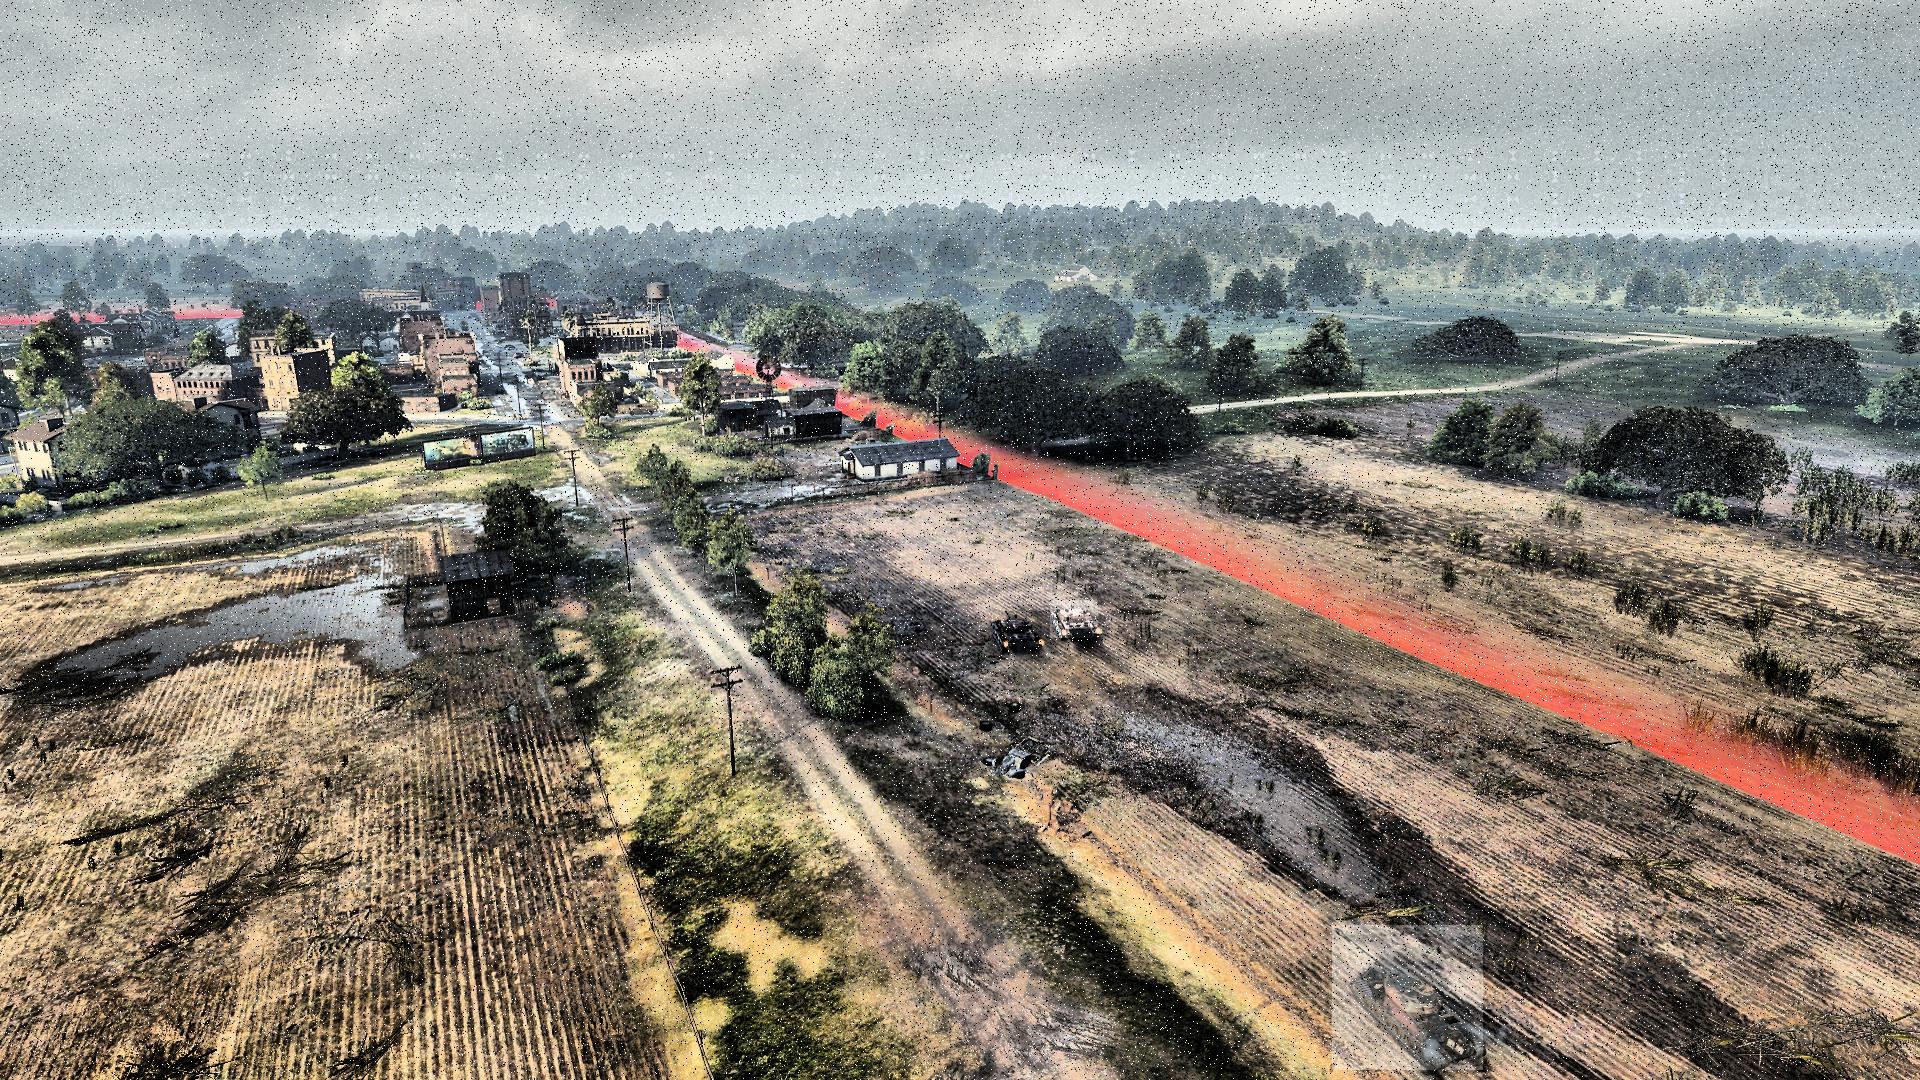military-vehicle: (1332, 924, 1484, 1069), (988, 612, 1042, 655), (1050, 600, 1098, 638)
